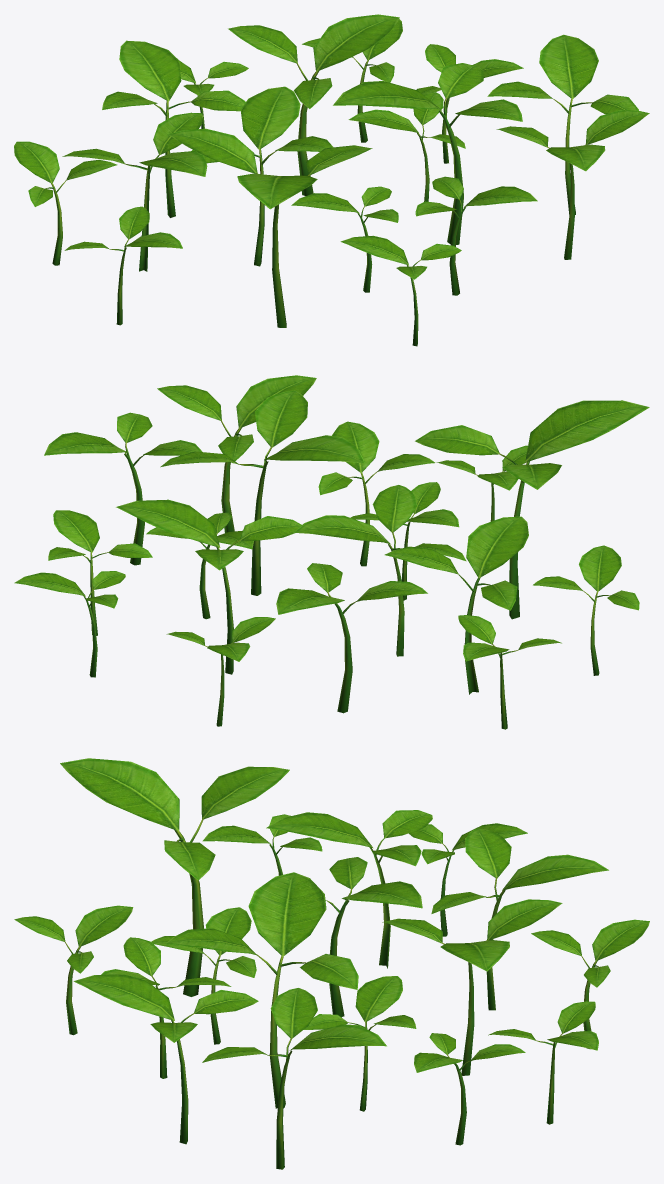
File: flower_11.glb
The picture shows the model from 3 angles, top to bottom: view 1: azimuth 30°, elevation 25°; view 2: azimuth 150°, elevation 25°; view 3: azimuth 270°, elevation 25°; orthographic projection. The views are drawn at different scales.
Visible parts, largest first — view 1: flower_11; view 2: flower_11; view 3: flower_11.
Part boxes in pixels (left/top/right/bottom): flower_11: left=14, top=14, right=649, bottom=346; flower_11: left=14, top=375, right=649, bottom=729; flower_11: left=14, top=758, right=649, bottom=1169.
Size of the model in its own units: 5.96 by 1.9 by 5.55.
1 material, 1 textured.
